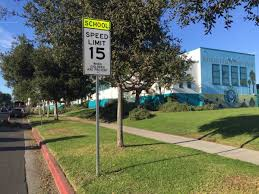speedLimit15: (82, 28, 113, 78)
